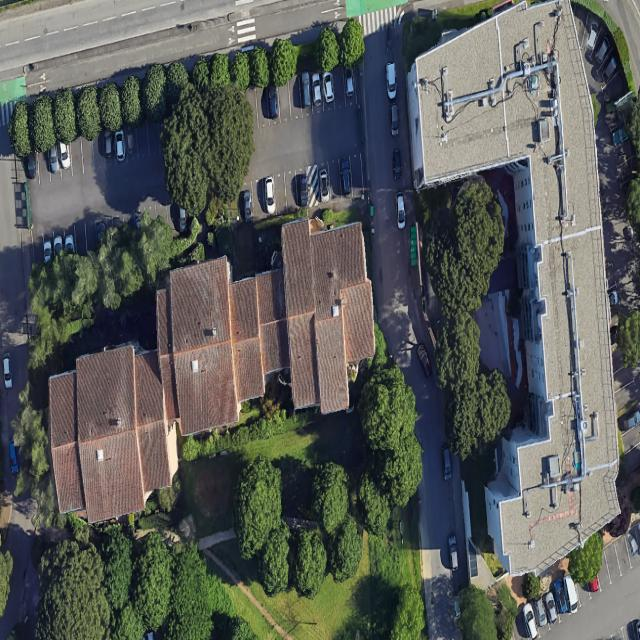immeuble: (394, 0, 638, 582), (255, 218, 378, 419), (43, 340, 172, 522), (156, 255, 267, 437)
